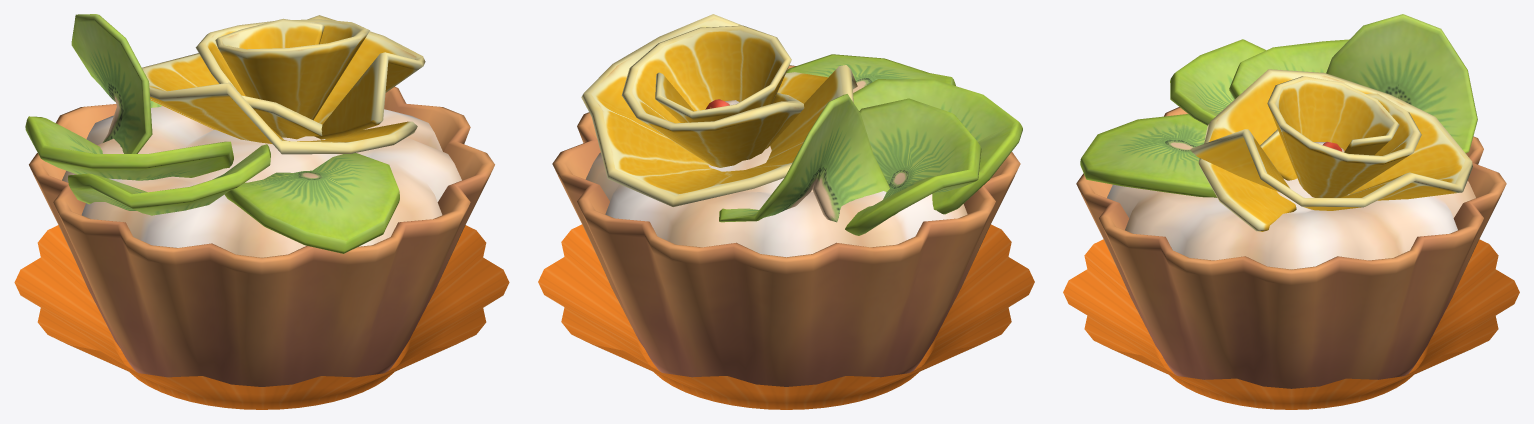
The model's file is cupcake_orange_kiwi_2.fbx.
3 renders of one model, left to right at view 1: azimuth 30°, elevation 25°; view 2: azimuth 150°, elevation 25°; view 3: azimuth 270°, elevation 25°, orthographic. The views are drawn at different scales.
Visible parts, largest first — view 1: cake_basket_orange_kiwi_3; view 2: cake_basket_orange_kiwi_3; view 3: cake_basket_orange_kiwi_3.
Part boxes in pixels (box(x1,y1,x2,y2)): cake_basket_orange_kiwi_3: box(14, 14, 509, 409); cake_basket_orange_kiwi_3: box(538, 14, 1034, 409); cake_basket_orange_kiwi_3: box(1063, 14, 1519, 409).
Bounding box in the file's own units: 12.04 × 8.51 × 12.04.
